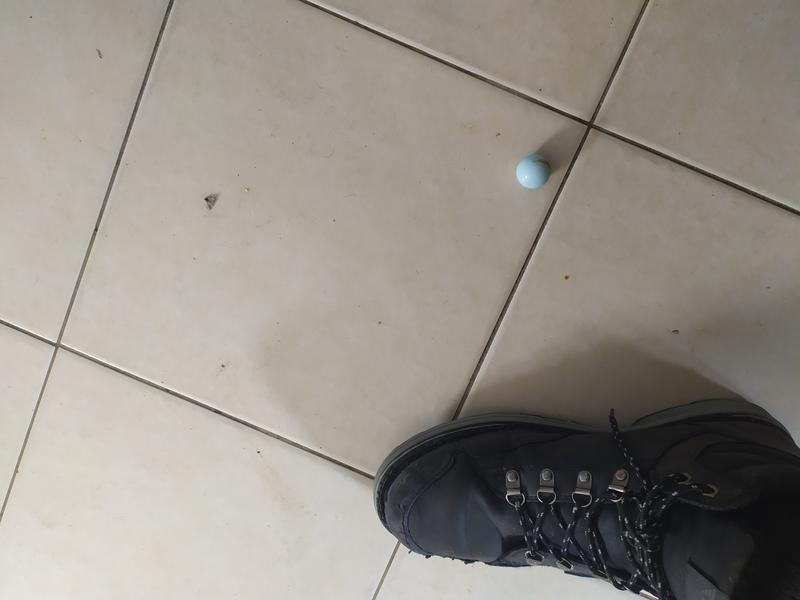Warning: (513, 151, 553, 191)
